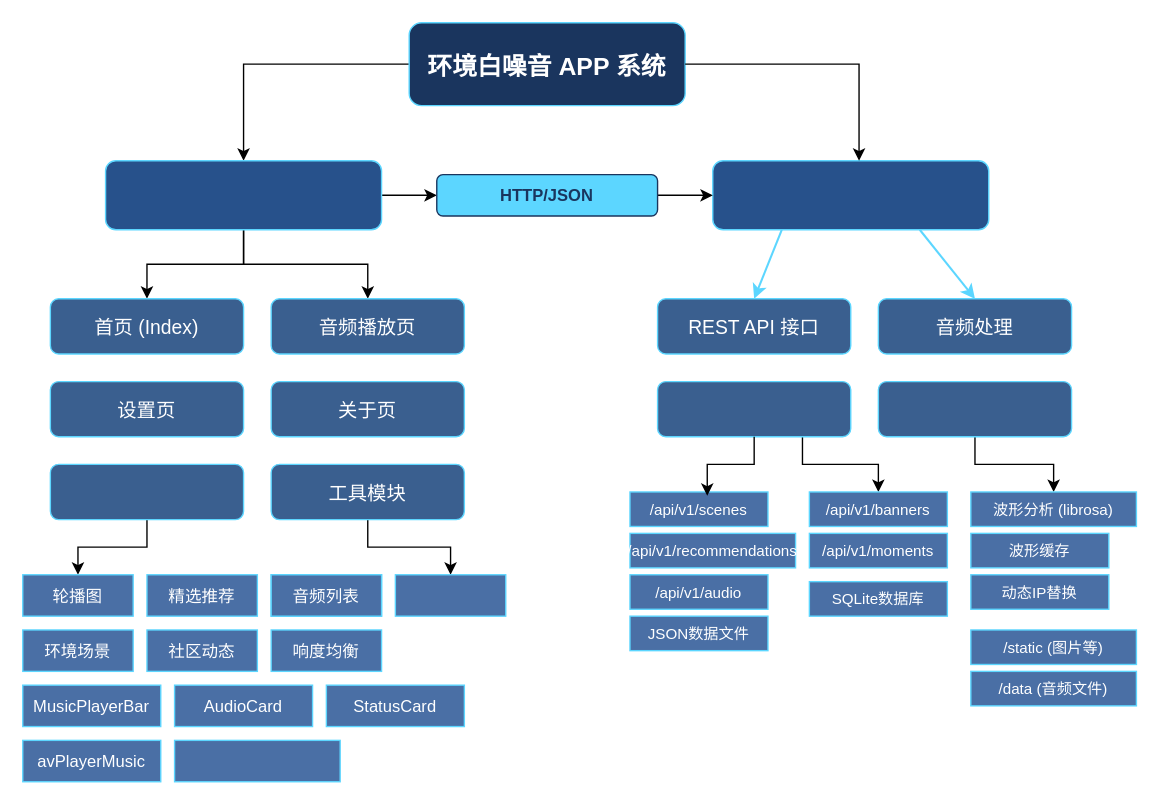
This 1159x805 diagram has some shape labels left out. Here are the shapes that lost their labels. From the top down, the box of each, then its label:
(104, 159, 382, 230): 前端 (HarmonyOS/ArkTS)
(711, 159, 989, 230): 后端 (FastAPI/Python)
(656, 380, 851, 437): 数据存储
(877, 380, 1072, 437): 静态资源服务
(49, 463, 244, 520): 组件模块
(394, 573, 506, 616): 音量控制
(173, 739, 340, 782): AVSessionManager
